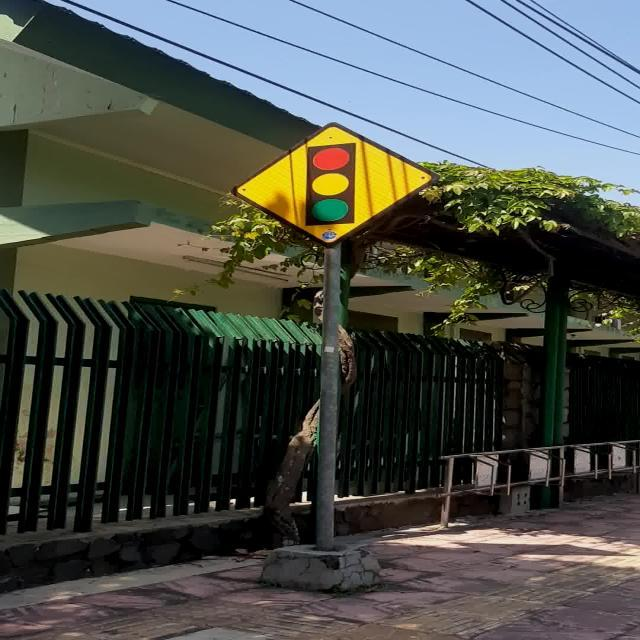Lampu Lalu Lintas: (231, 121, 441, 246)
